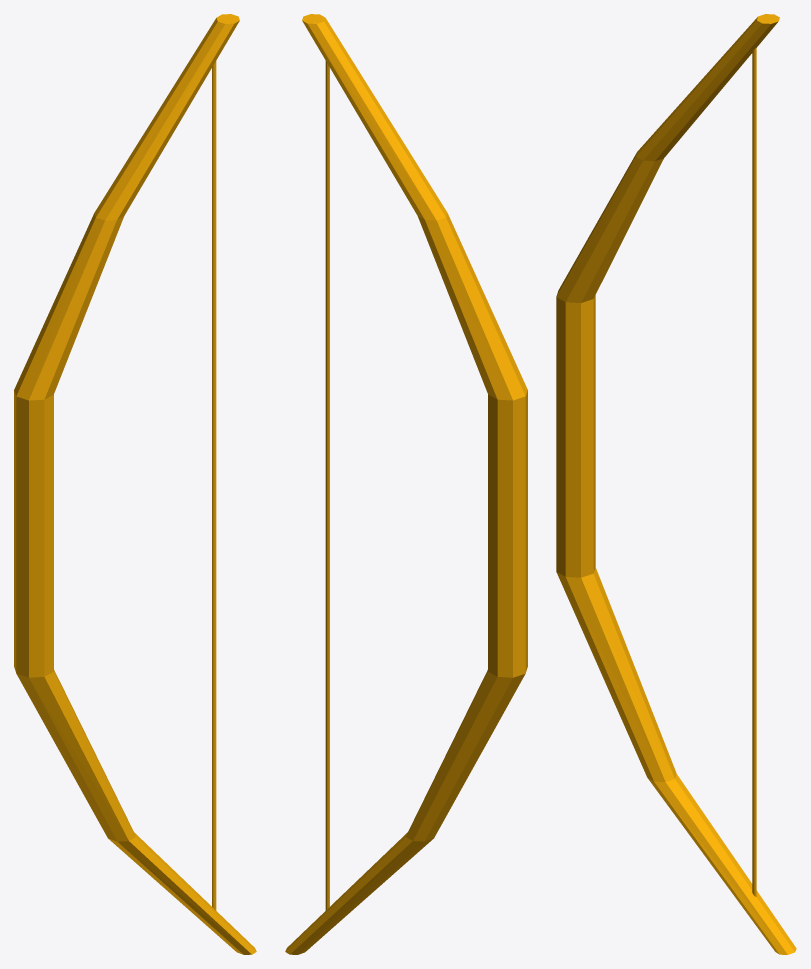
The model's file is handmade_2.obj.
3 renders of one model, left to right at view 1: azimuth 30°, elevation 25°; view 2: azimuth 150°, elevation 25°; view 3: azimuth 330°, elevation 25°, orthographic.
Visible parts, largest first — view 1: model; view 2: model; view 3: model.
Part boxes in pixels (x1,y1,x2,y2): model: [14, 14, 256, 954]; model: [285, 14, 527, 954]; model: [556, 14, 796, 954].
Bounding box in the file's own units: 0.3976 × 1.49 × 0.0599.
